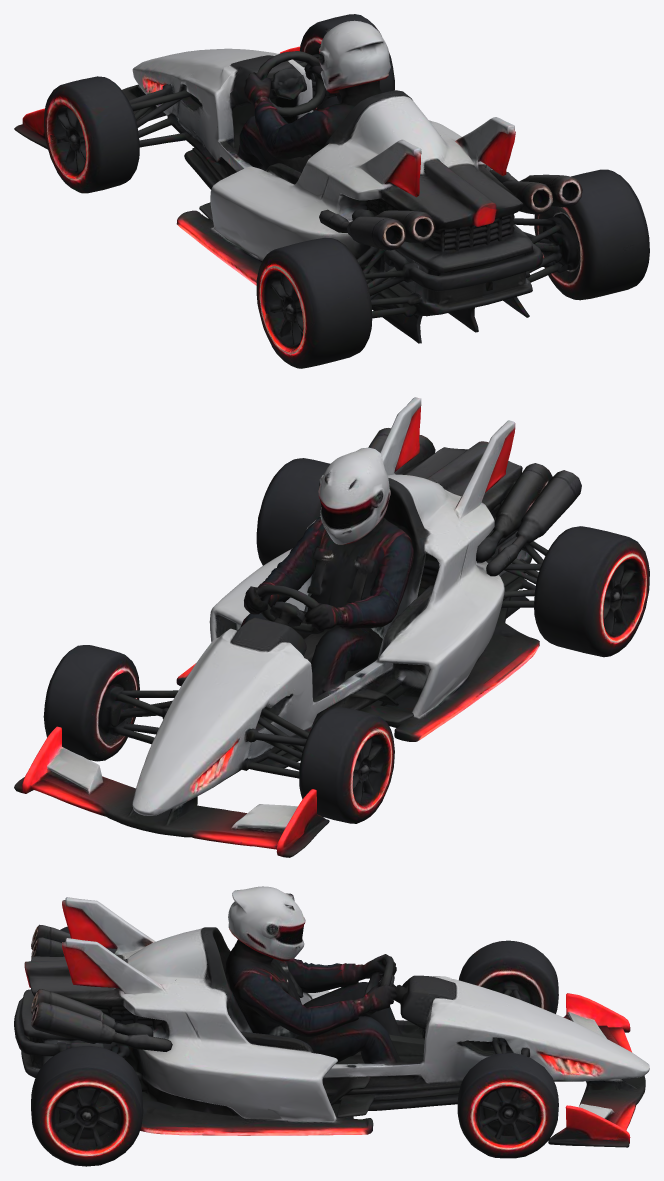
File: signal-final.glb
The picture shows the model from 3 angles, top to bottom: view 1: azimuth 30°, elevation 25°; view 2: azimuth 150°, elevation 25°; view 3: azimuth 270°, elevation 25°; orthographic projection. The views are drawn at different scales.
Visible parts, largest first — view 1: chassis, wheel-rl, wheel-rr, wheel-fl, wheel-fr; view 2: chassis, wheel-rl, wheel-fl, wheel-fr, wheel-rr; view 3: chassis, wheel-rr, wheel-fr, wheel-fl.
Boxes of the visible parts, <box> form: chassis: <box>14,20,582,343</box>; wheel-rl: <box>256,238,372,368</box>; wheel-rr: <box>534,169,649,300</box>; wheel-fl: <box>44,76,123,192</box>; wheel-fr: <box>299,14,372,110</box>; chassis: <box>14,397,581,857</box>; wheel-rl: <box>534,526,649,657</box>; wheel-fl: <box>299,707,391,823</box>; wheel-fr: <box>43,645,136,761</box>; wheel-rr: <box>256,458,330,565</box>; chassis: <box>14,886,649,1157</box>; wheel-rr: <box>31,1046,143,1166</box>; wheel-fr: <box>474,1053,558,1158</box>; wheel-fl: <box>476,940,558,1013</box>.
Bounding box in the file's own units: 2.52 × 1.6 × 4.5.
1 material, 1 textured.
